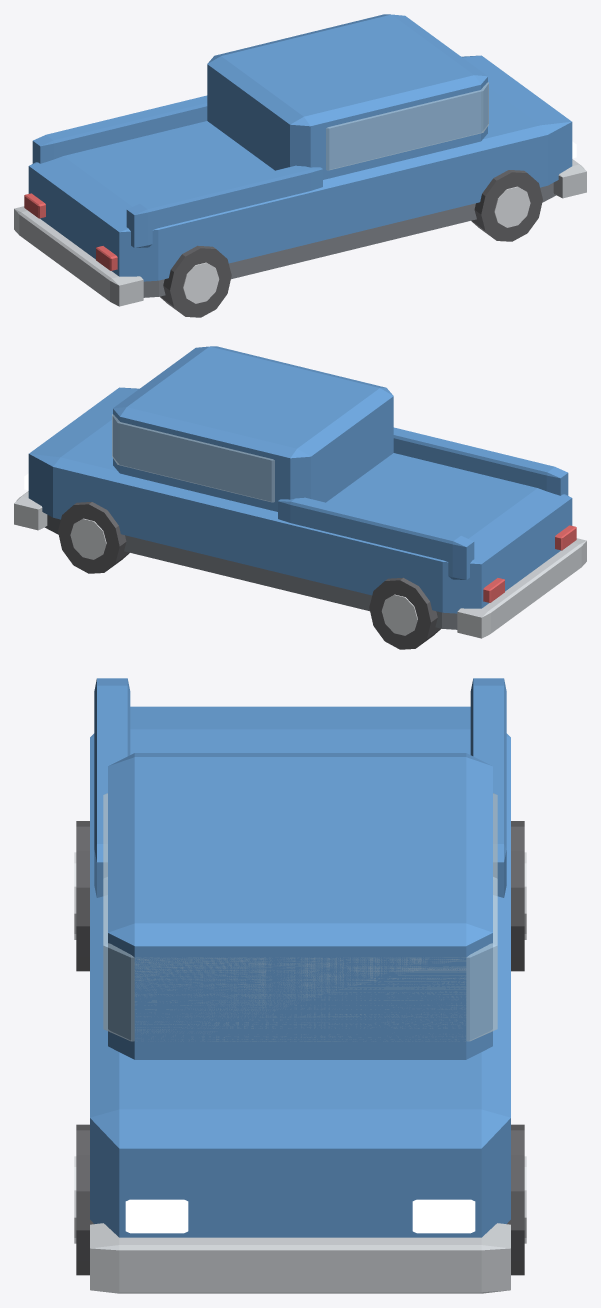
Rendered from b03_crew_cab_shortbed_pickup.glb.
3 views of the same model, one above another, from view 1: azimuth 30°, elevation 25°; view 2: azimuth 150°, elevation 25°; view 3: azimuth 270°, elevation 25° (orthographic). The views are drawn at different scales.
Parts seen in each view (by area): view 1: b03_crew_cab_shortbed_pickup; view 2: b03_crew_cab_shortbed_pickup; view 3: b03_crew_cab_shortbed_pickup.
Boxes of the visible parts, x1=… form: b03_crew_cab_shortbed_pickup: x1=14, y1=14, x2=586, y2=317; b03_crew_cab_shortbed_pickup: x1=14, y1=346, x2=586, y2=649; b03_crew_cab_shortbed_pickup: x1=74, y1=678, x2=526, y2=1293.
Bounding box in the file's own units: 6.02 × 1.97 × 2.5.
